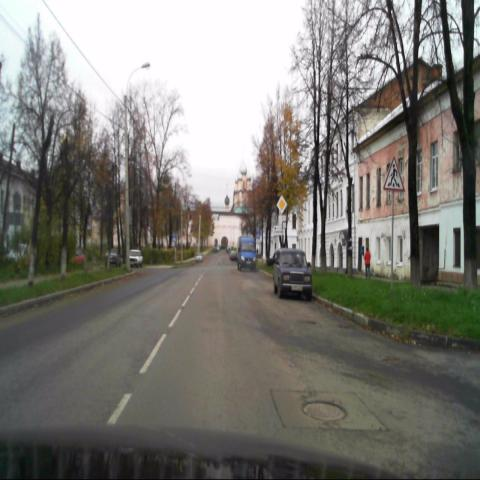1_22: (382, 155, 405, 192)
